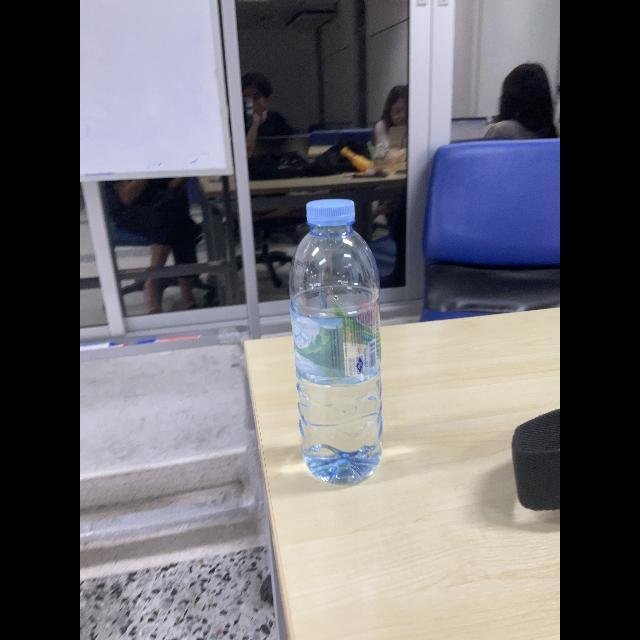plastic_bottle: (276, 190, 404, 498)
plastic_bottle_cap: (300, 193, 358, 230)
